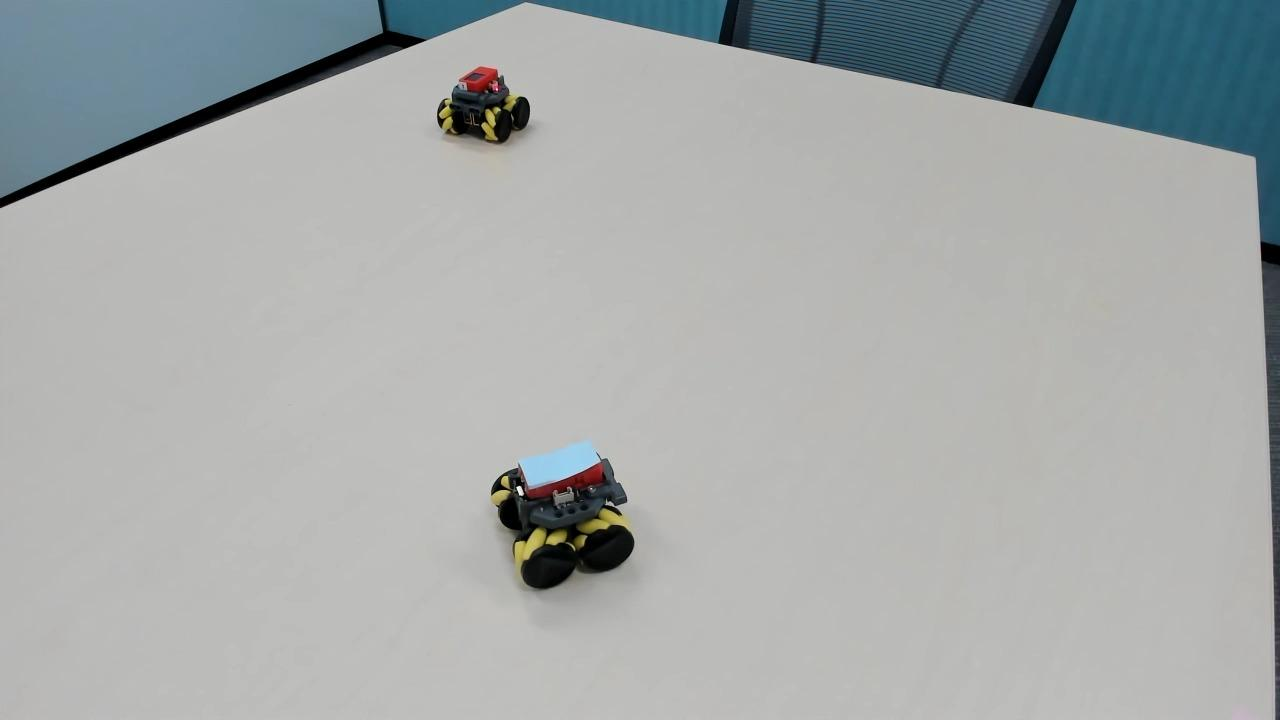B-Robot: (484, 438, 650, 600)
R-Robot: (426, 54, 538, 155)
